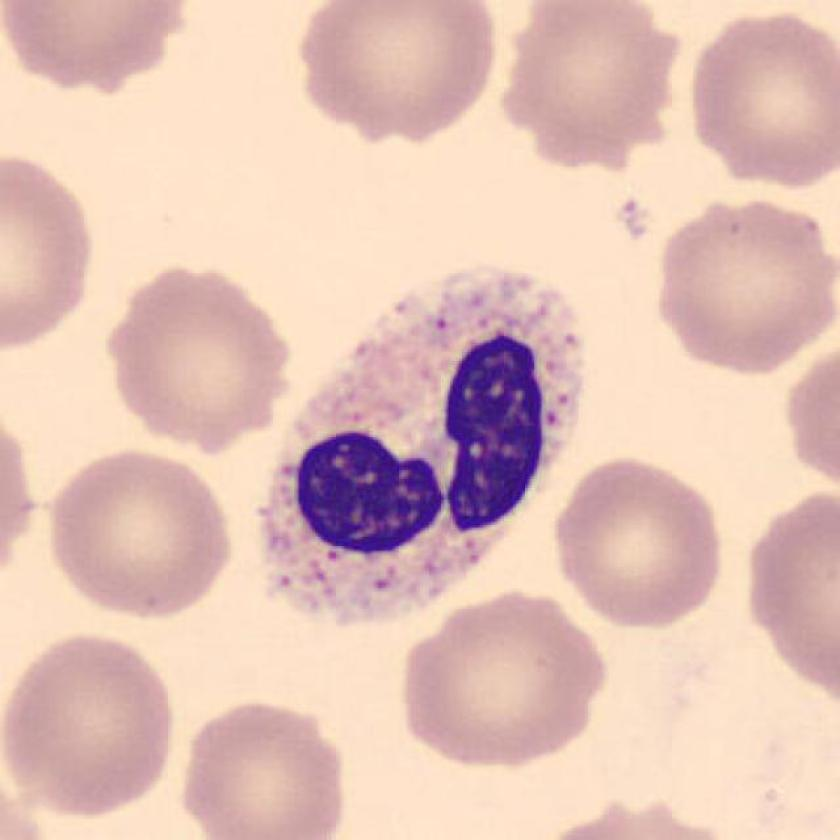neutrophil: (261, 274, 585, 622)
